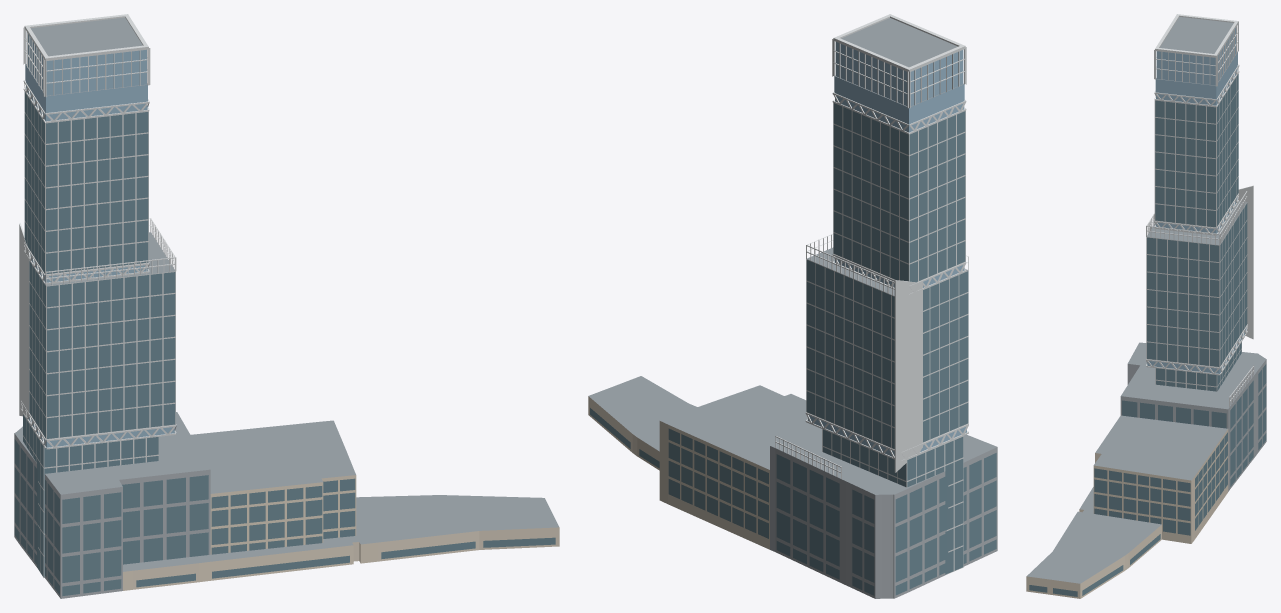
Rendered from osaka-abeno-harukas.glb.
3 renders of one model, left to right at view 1: azimuth 30°, elevation 25°; view 2: azimuth 150°, elevation 25°; view 3: azimuth 270°, elevation 25°, orthographic. The views are drawn at different scales.
Parts seen in each view (by area): view 1: Abeno Harukas; view 2: Abeno Harukas; view 3: Abeno Harukas.
Part boxes in pixels (bbox=[...]): Abeno Harukas: bbox=[14, 14, 559, 598]; Abeno Harukas: bbox=[588, 14, 997, 598]; Abeno Harukas: bbox=[1026, 14, 1266, 598].
Bounding box in the file's own units: 269 × 300 × 157.
